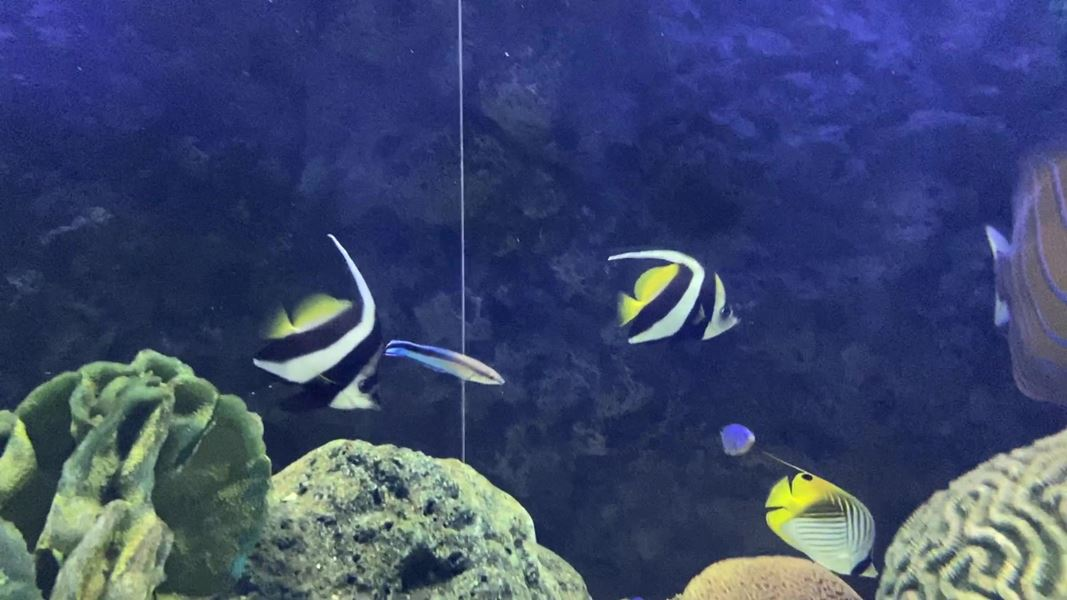Bluesteak cleaner wrasse: (371, 319, 516, 401)
